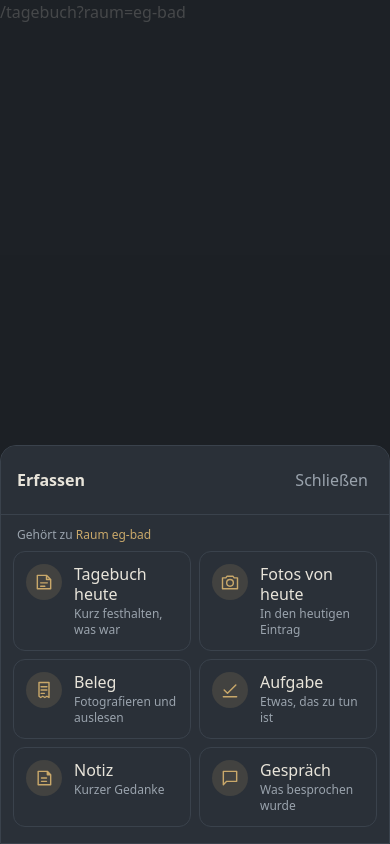
it: capture sheet › takes the room of a room filter along
The image size is (390, 844).
expect the text "Raum eg-bad" is shown: met, box left=76, top=526, right=151, bottom=543
Click the button "Aufgabe Etwas, das zu tun ist": (288, 699) left=199, top=659, right=377, bottom=739
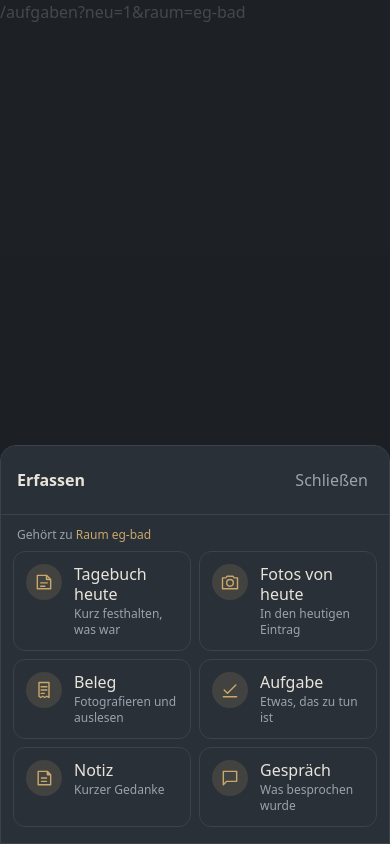
expect the text "/aufgaben?neu=1&raum=eg-bad" is shown: met, box left=0, top=1, right=246, bottom=23
